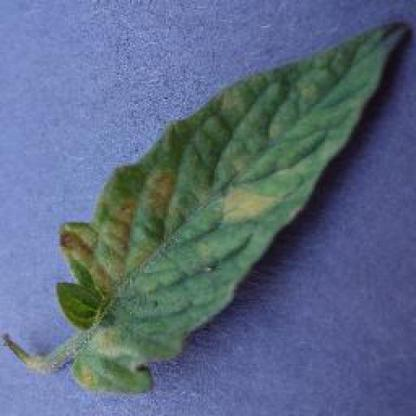Tomato_Leaf_Mold: (55, 25, 403, 357)
